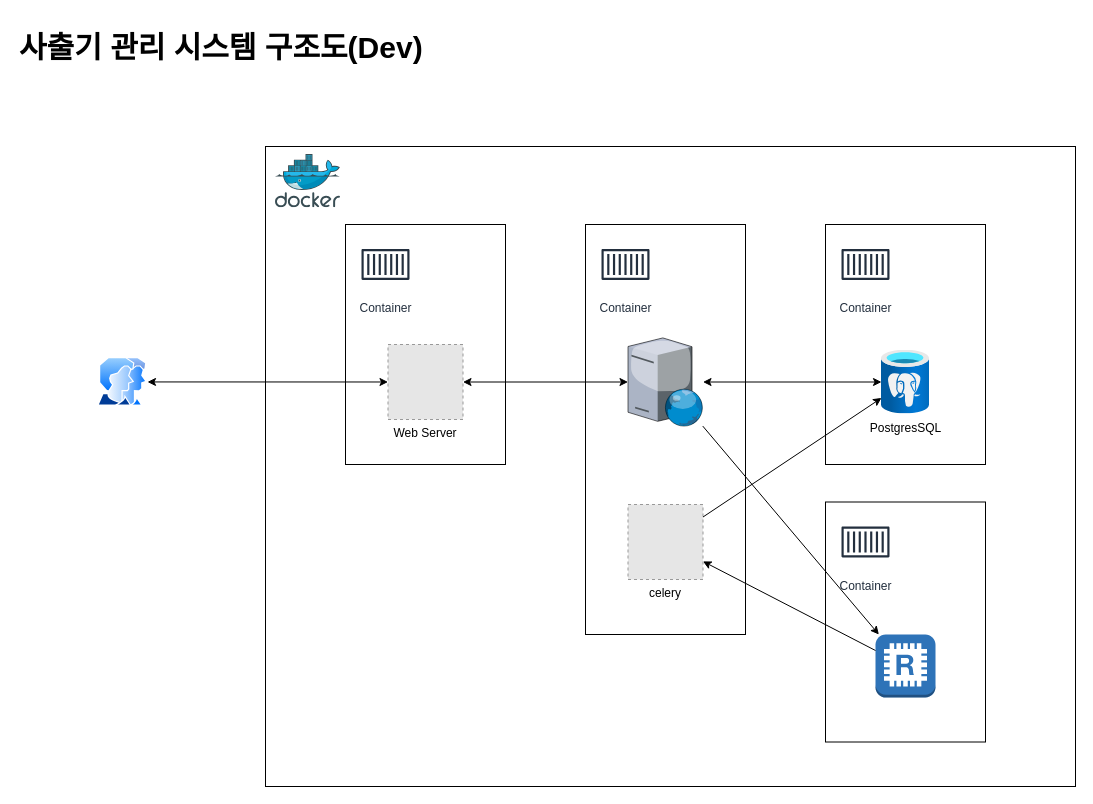
Some shapes in this 1093 by 804 pixel diagram are drawn without their labels. Grey dashed boxes stand in for pictures. Here are the shapes that lost their labels. From the top down, the box of each, then its label:
(97, 357, 147, 406): User
(628, 337, 702, 426): API Server
(874, 634, 936, 698): Redis
